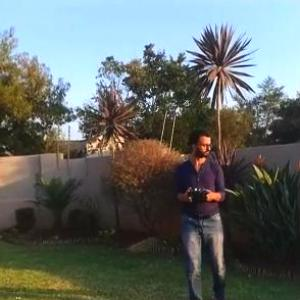follow: (174, 119, 234, 299)
